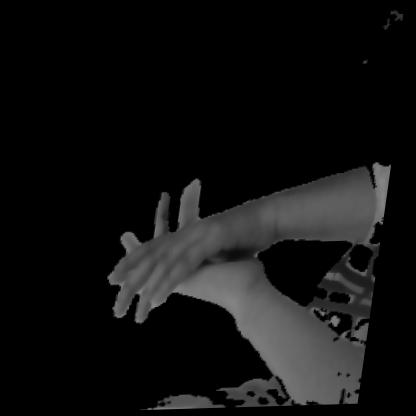clap: (83, 146, 340, 359)
